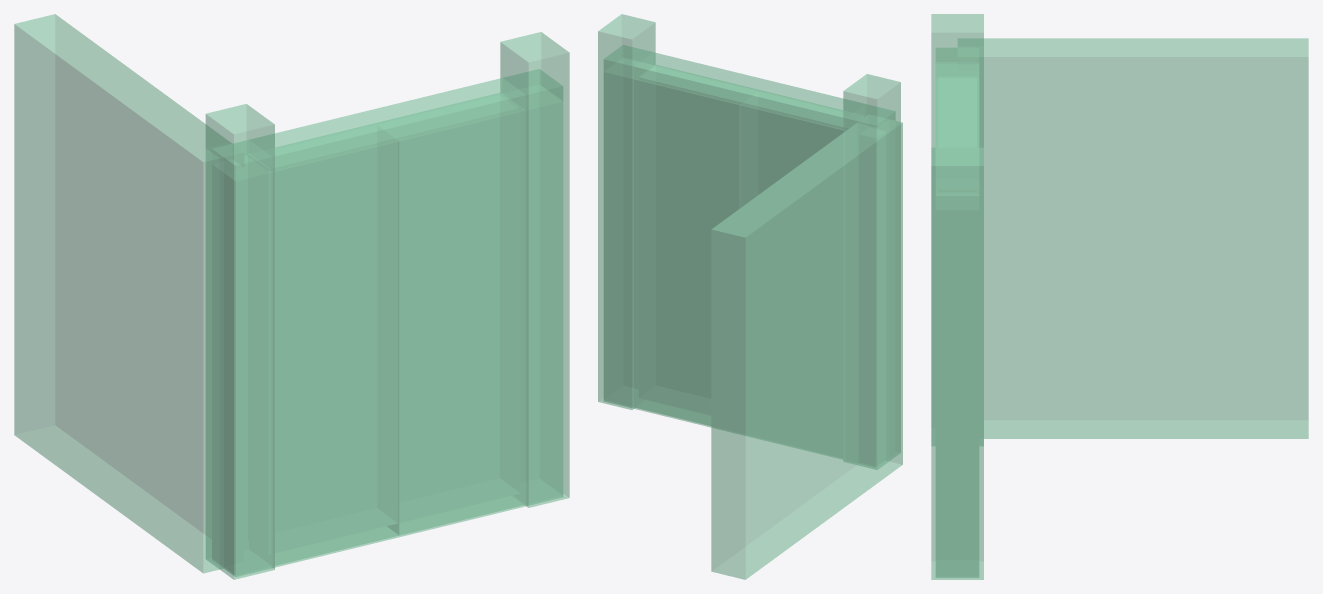
Rendered from PZ_Palisade_UCX_CollisionHelpers.glb.
The picture shows the model from 3 angles, left to right: view 1: azimuth 30°, elevation 25°; view 2: azimuth 150°, elevation 25°; view 3: azimuth 270°, elevation 25°; orthographic projection. The views are drawn at different scales.
Visible parts, largest first — view 1: UCX_PZ_Palisade_Corner_90_A, UCX_PZ_Palisade_Corner_90_B, UCX_PZ_Gate_Leaf, UCX_PZ_Palisade_Straight_2m_00, UCX_PZ_Palisade_Straight_2m_01, UCX_PZ_Gate_Frame_Left, UCX_PZ_Gate_Frame_Right; view 2: UCX_PZ_Palisade_Corner_90_B, UCX_PZ_Palisade_Corner_90_A, UCX_PZ_Palisade_Straight_2m_01, UCX_PZ_Gate_Leaf, UCX_PZ_Gate_Frame_Left, UCX_PZ_Gate_Frame_Right, UCX_PZ_Palisade_Straight_2m_00; view 3: UCX_PZ_Palisade_Corner_90_B, UCX_PZ_Gate_Frame_Right, UCX_PZ_Palisade_Corner_90_A, UCX_PZ_Palisade_Straight_2m_01, UCX_PZ_Gate_Frame_Left, UCX_PZ_Gate_Leaf, UCX_PZ_Palisade_Straight_2m_00.
Boxes of the visible parts, x1,y1,x2,y2 form: UCX_PZ_Palisade_Corner_90_A: (212, 69, 562, 576); UCX_PZ_Palisade_Corner_90_B: (14, 14, 243, 573); UCX_PZ_Gate_Leaf: (248, 93, 520, 552); UCX_PZ_Palisade_Straight_2m_00: (224, 126, 399, 574); UCX_PZ_Palisade_Straight_2m_01: (398, 85, 562, 535); UCX_PZ_Gate_Frame_Left: (205, 104, 274, 579); UCX_PZ_Gate_Frame_Right: (500, 32, 569, 507); UCX_PZ_Palisade_Corner_90_B: (711, 115, 902, 579); UCX_PZ_Palisade_Corner_90_A: (604, 45, 895, 459); UCX_PZ_Palisade_Straight_2m_01: (604, 58, 740, 425); UCX_PZ_Gate_Leaf: (639, 65, 865, 415); UCX_PZ_Gate_Frame_Left: (843, 74, 900, 469); UCX_PZ_Gate_Frame_Right: (598, 14, 655, 409); UCX_PZ_Palisade_Straight_2m_00: (740, 92, 843, 208); UCX_PZ_Palisade_Corner_90_B: (958, 38, 1308, 438); UCX_PZ_Gate_Frame_Right: (931, 147, 983, 579); UCX_PZ_Palisade_Corner_90_A: (936, 48, 978, 577); UCX_PZ_Palisade_Straight_2m_01: (936, 136, 978, 576); UCX_PZ_Gate_Frame_Left: (931, 14, 983, 445); UCX_PZ_Gate_Leaf: (938, 75, 976, 147); UCX_PZ_Palisade_Straight_2m_00: (936, 62, 978, 136).
Bounding box in the file's own units: 2.15 × 2.6 × 2.15.
